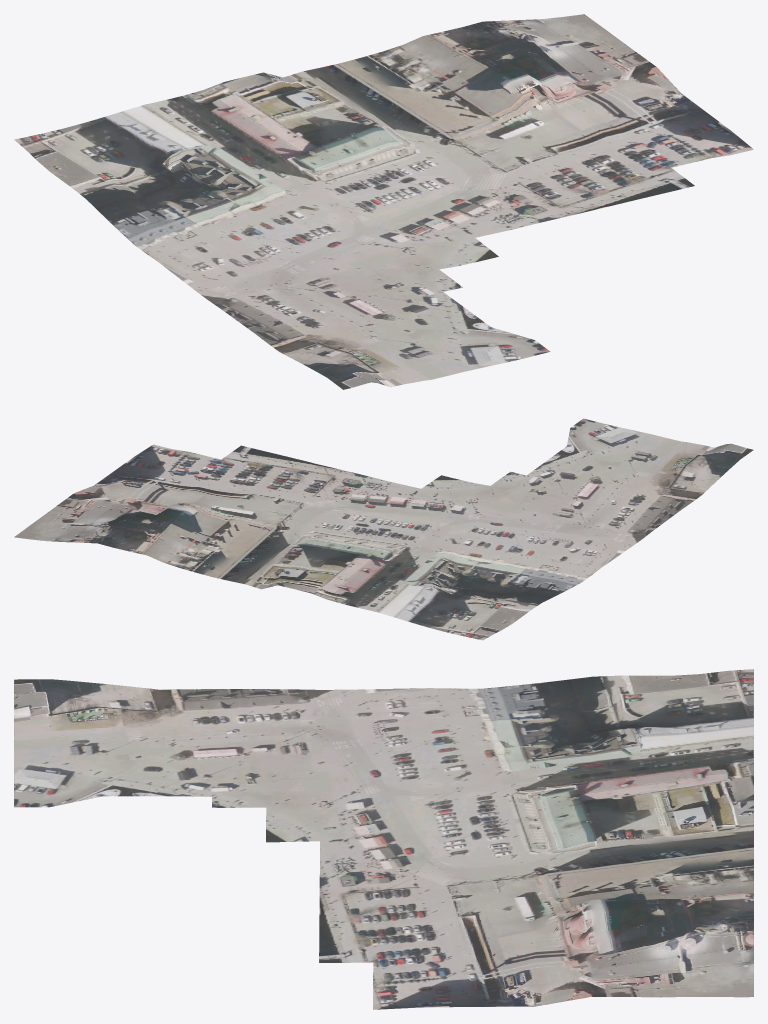
File: CM_Terrain_24487182_6820613.fbx
3 views of the same model, one above another, from view 1: azimuth 30°, elevation 25°; view 2: azimuth 150°, elevation 25°; view 3: azimuth 270°, elevation 25° (orthographic). The views are drawn at different scales.
Parts seen in each view (by area): view 1: CM_Terrain_24487182_6820613_LOD0; view 2: CM_Terrain_24487182_6820613_LOD0; view 3: CM_Terrain_24487182_6820613_LOD0.
Boxes of the visible parts, x1,y1,x2,y2 form: CM_Terrain_24487182_6820613_LOD0: (14,14,753,389); CM_Terrain_24487182_6820613_LOD0: (14,418,753,640); CM_Terrain_24487182_6820613_LOD0: (14,669,753,1009).
Size of what is drawn, in the model's own units: 205 by 10.8 by 205.
